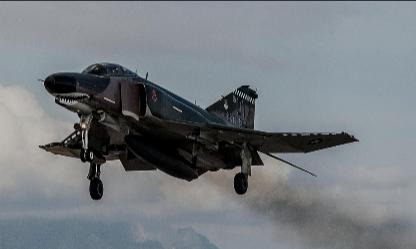F35: (38, 61, 361, 199)
